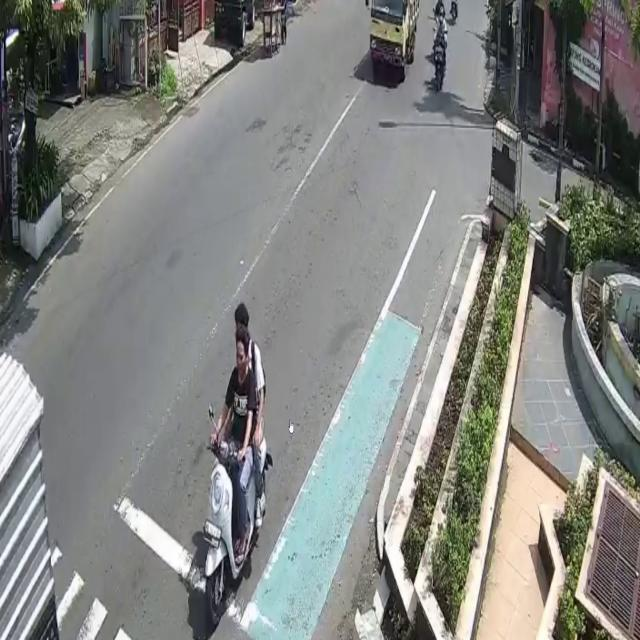motorbike: (204, 432, 265, 625), (432, 34, 447, 94)
truck: (370, 0, 418, 77)
